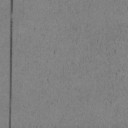surface scratch: (8, 0, 14, 128)
